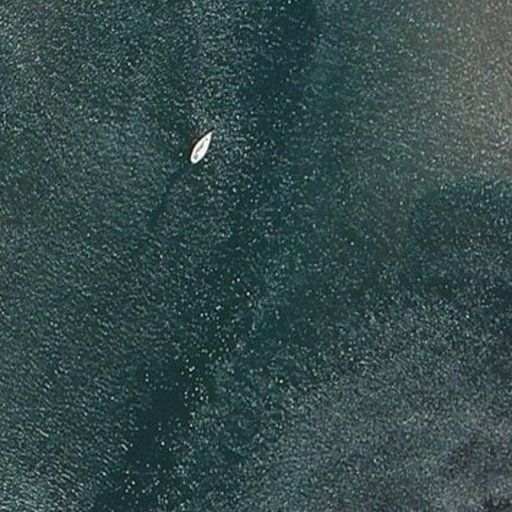ship: (187, 127, 215, 168)
